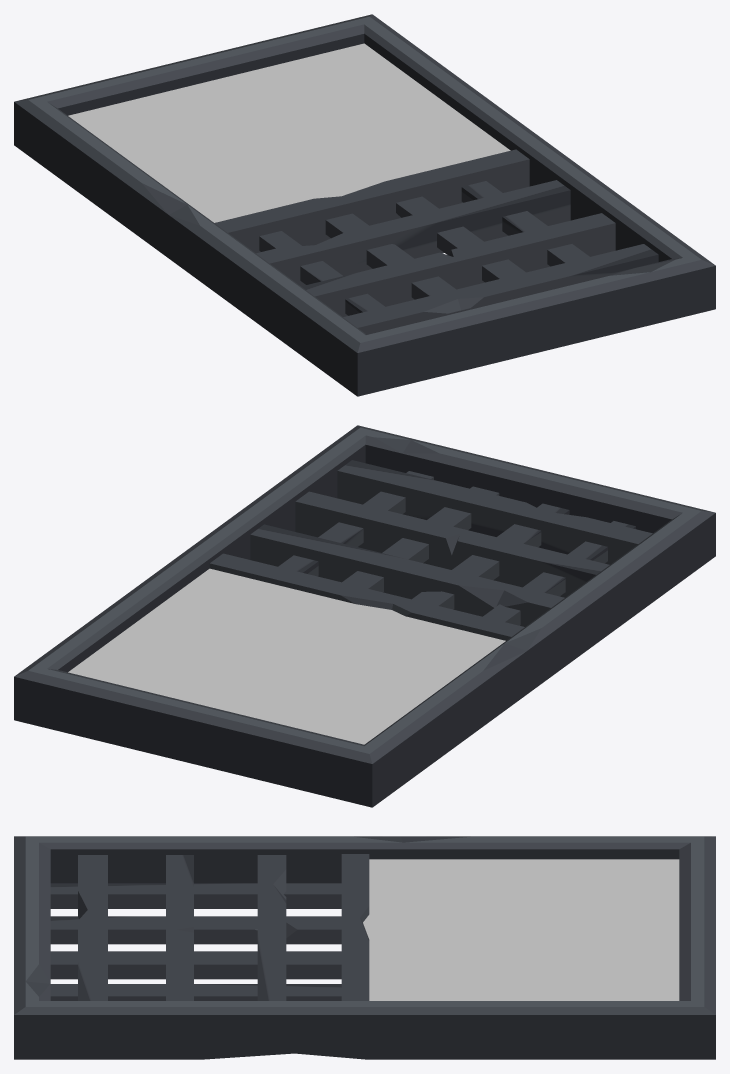
The model's file is SM_Veh_Ship_Grate_08.fbx.
3 views of the same model, one above another, from view 1: azimuth 30°, elevation 25°; view 2: azimuth 150°, elevation 25°; view 3: azimuth 270°, elevation 25° (orthographic). The views are drawn at different scales.
Parts seen in each view (by area): view 1: SM_Veh_Ship_Grate_08; view 2: SM_Veh_Ship_Grate_08; view 3: SM_Veh_Ship_Grate_08.
Boxes of the visible parts, x1,y1,x2,y2 form: SM_Veh_Ship_Grate_08: (14, 14, 715, 396); SM_Veh_Ship_Grate_08: (14, 425, 715, 807); SM_Veh_Ship_Grate_08: (14, 836, 715, 1059).
Bounding box in the file's own units: 276 × 34.88 × 458.
